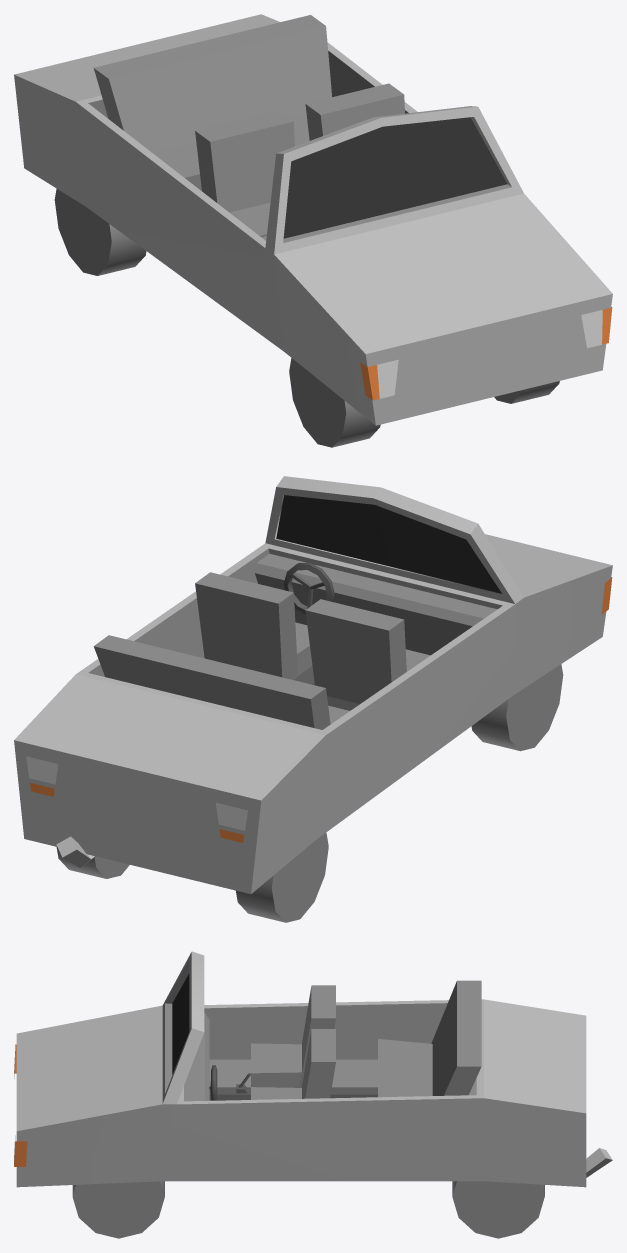
The model's file is cabrio_08.fbx.
3 views of the same model, one above another, from view 1: azimuth 30°, elevation 25°; view 2: azimuth 150°, elevation 25°; view 3: azimuth 270°, elevation 25° (orthographic). The views are drawn at different scales.
Visible parts, largest first — view 1: cabrio_08; view 2: cabrio_08; view 3: cabrio_08.
Part boxes in pixels (box(x1,y1,x2,y2)): cabrio_08: box(14, 14, 612, 447); cabrio_08: box(14, 476, 612, 922); cabrio_08: box(14, 951, 612, 1238).
Size of the model in its own units: 1.6 by 1.63 by 4.1.
